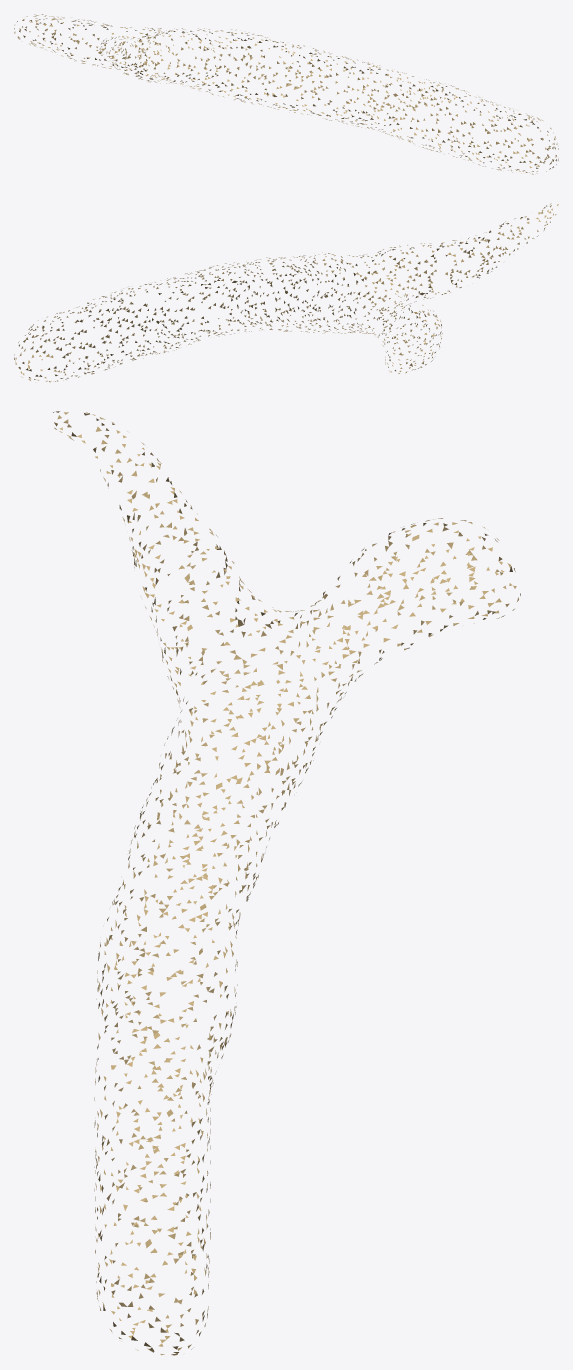
Rendered from morph_007.glb.
3 renders of one model, top to bottom at view 1: azimuth 30°, elevation 25°; view 2: azimuth 150°, elevation 25°; view 3: azimuth 270°, elevation 25°, orthographic. The views are drawn at different scales.
Size of the model in its own units: 116 by 59.82 by 50.24.
